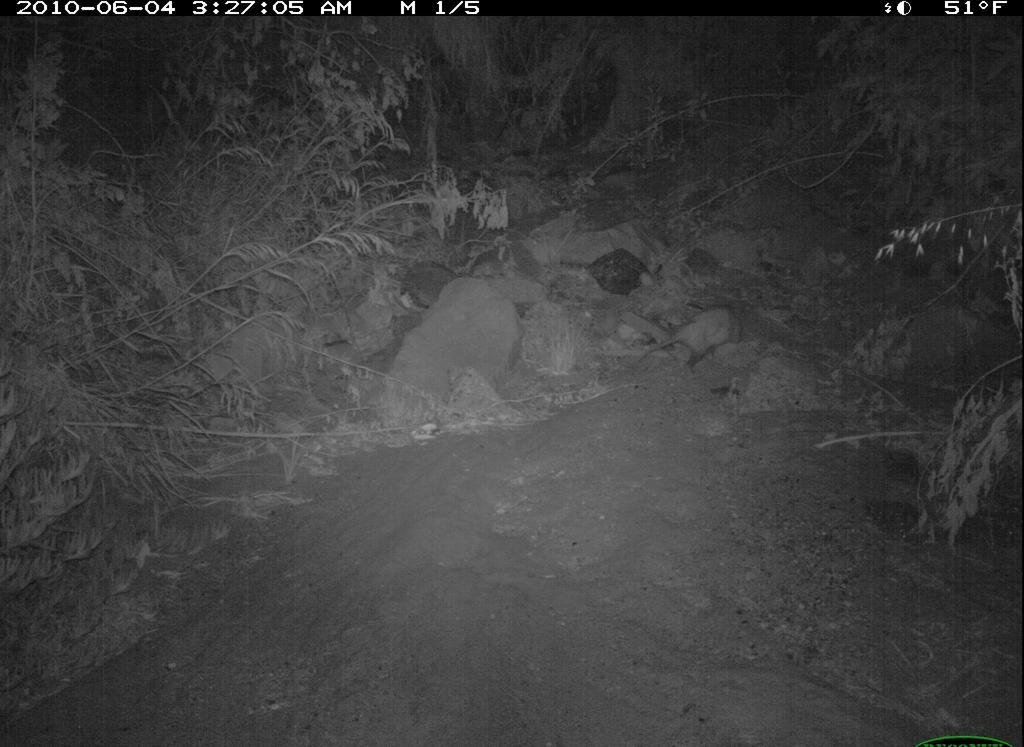opossum: (629, 283, 789, 392)
